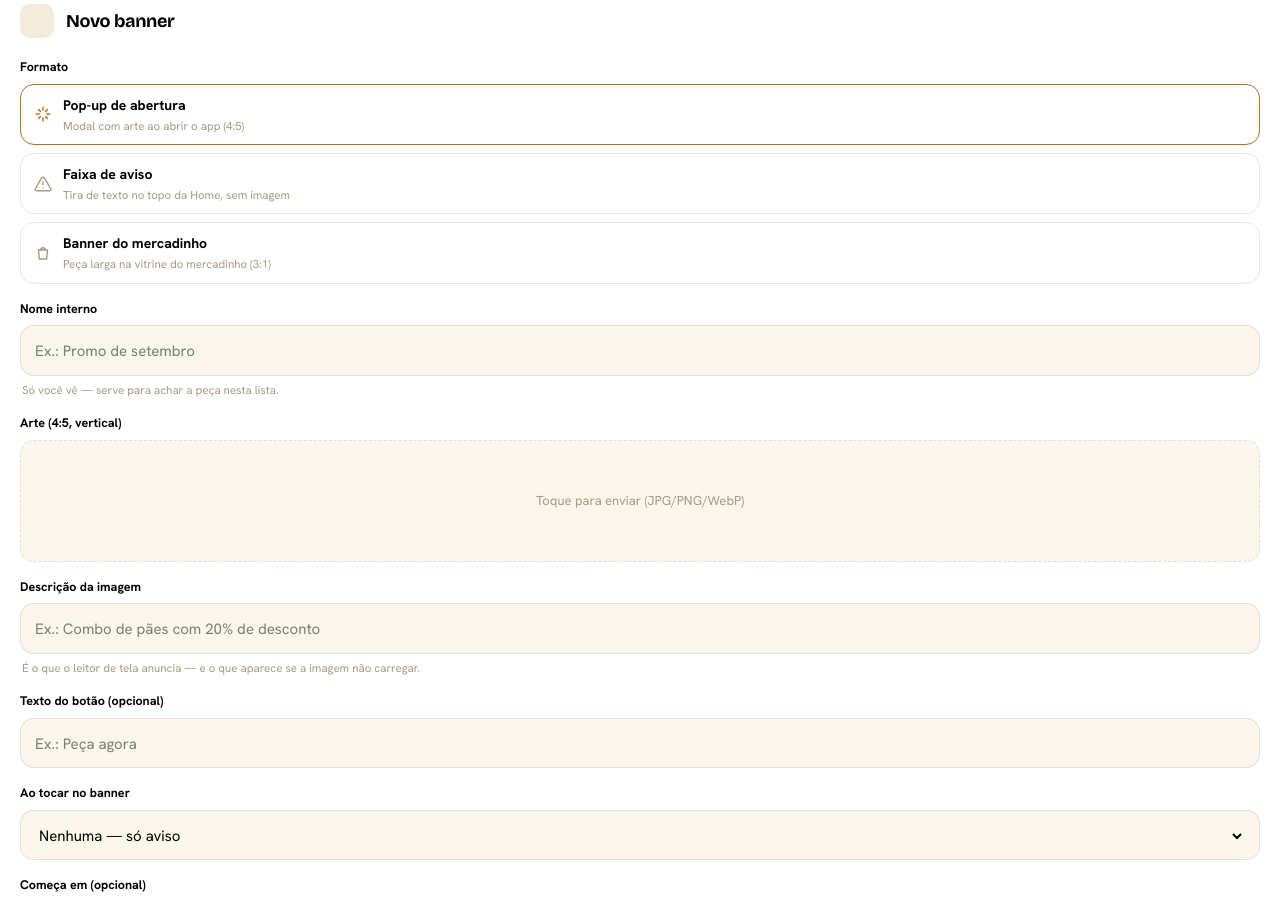
Test: BannerForm › faixa de aviso troca arte por título e cor
Click the text "Faixa de aviso": (108, 174) [63,165,152,183]
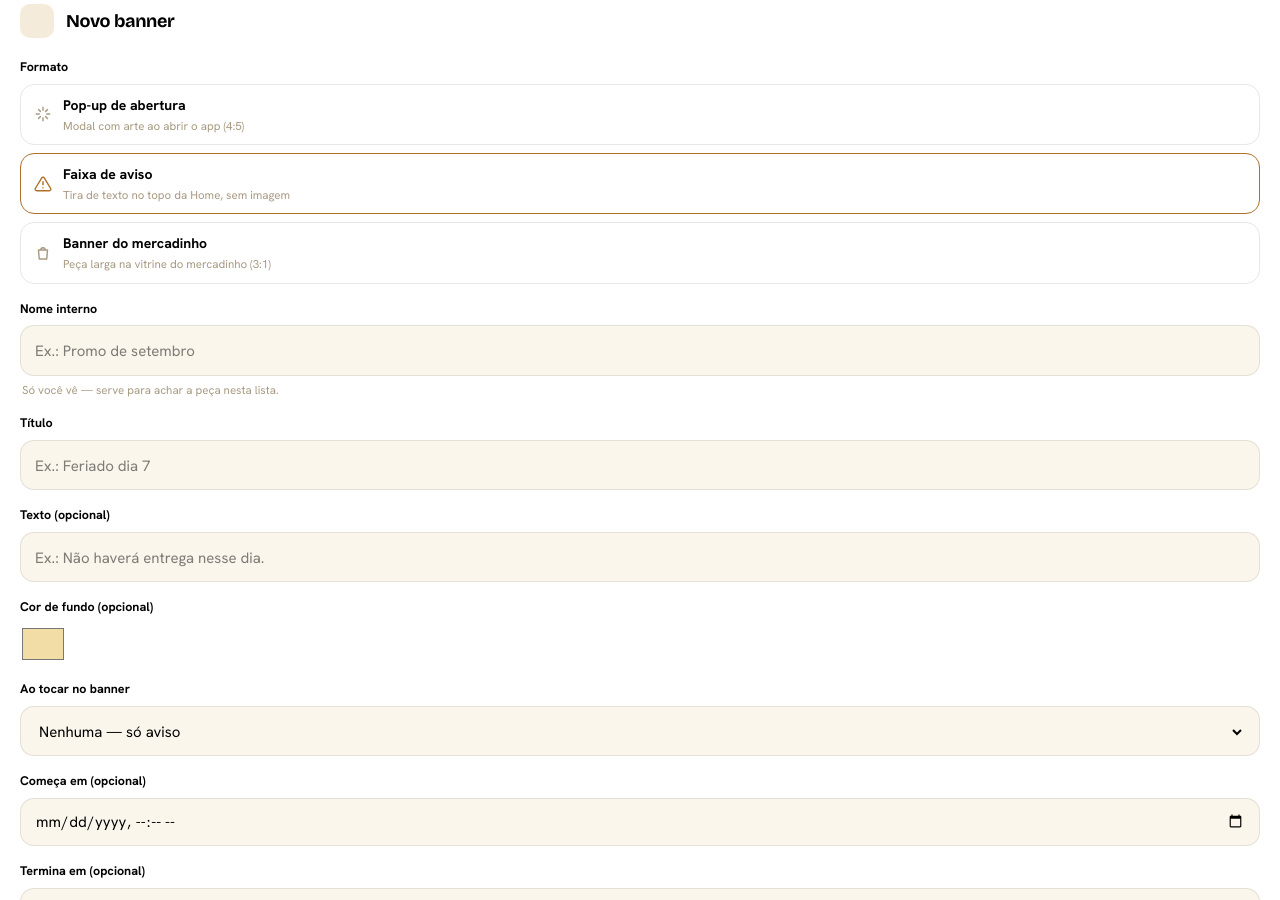
Check: the text "Arte (" is gone
Check: the text "Título" is shown, box [20,414,53,431]
Check: the text "Cor de fundo (opcional)" is shown, box [20,598,153,615]
